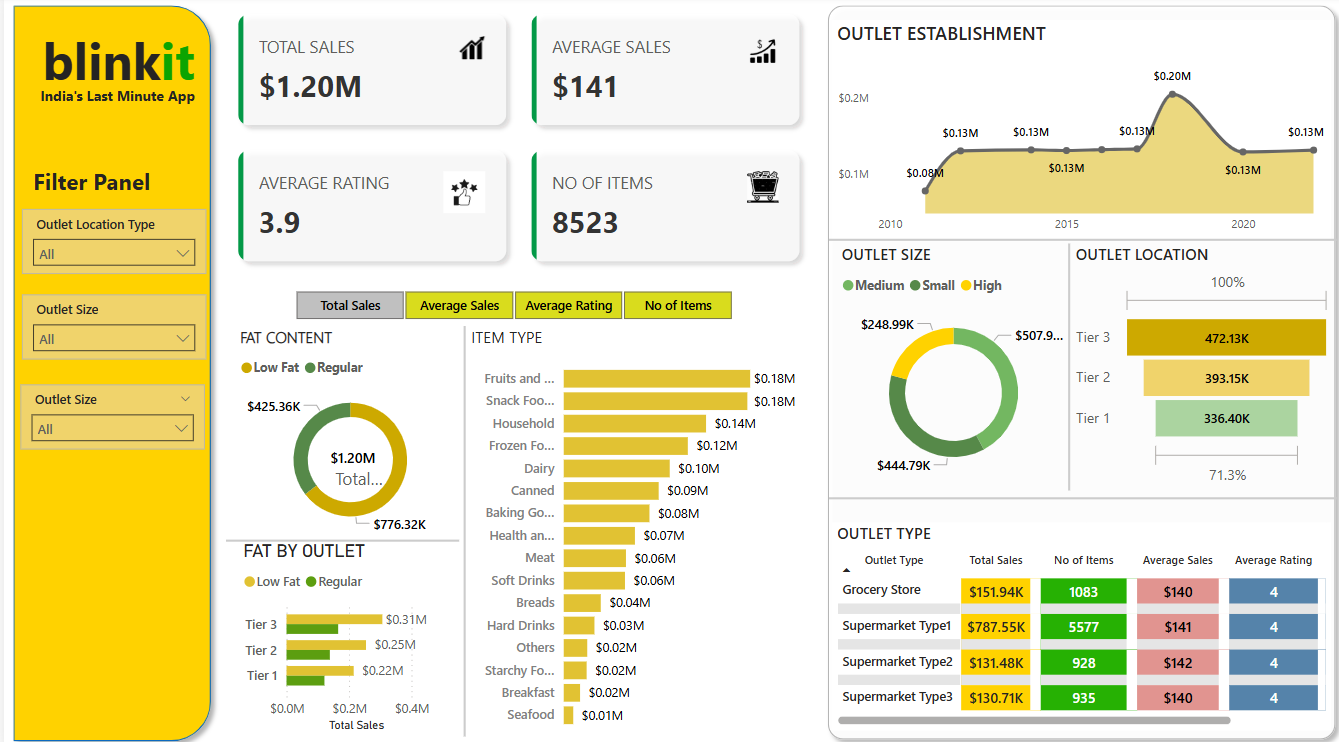

The page's visual inventory and layout, read from the dashboard file:
{"tool":"powerbi","page":{"name":"Page 1","canvas":[1280,720],"ordinal":0},"visuals":[{"type":"shape","box":[0,0,206.6,720.6],"z":0},{"type":"textbox","box":[253.7,522.1,206.6,97.6],"z":1000},{"type":"shape","box":[777.5,0,502.6,718.9],"z":2000},{"type":"textbox","box":[22.8,22.8,164.3,74.8],"z":3000},{"type":"textbox","box":[22.8,79.7,164.3,48.8],"z":4000},{"type":"cardVisual","fields":{"Data":["Sheet1.Total Sales","Sheet1.Average Sales","Sheet1.Average Rating","Sheet1.No of Items"]},"box":[206.6,0,570.9,270],"z":5000},{"type":"donutChart","title":"FAT CONTENT","fields":{"Y":["Sheet1.Total Sales"],"Category":["Sheet1.item_fat_content"]},"box":[221.2,315.5,219.6,206.6],"z":6000},{"type":"slicer","fields":{"Values":["Metrics.Metrics"]},"box":[253.7,274.9,465.2,40.7],"z":7000},{"type":"cardVisual","fields":{"Data":["Sheet1.Total Sales"]},"box":[283,401.8,99.2,100.8],"z":8000},{"type":"clusteredBarChart","title":"FAT BY OUTLET","fields":{"Y":["Sheet1.Total Sales"],"Category":["Sheet1.outlet_location_type"],"Series":["Sheet1.item_fat_content"]},"box":[222.8,520.5,201.7,187.1],"z":9000},{"type":"shape","box":[211.5,512.4,222.8,14.6],"z":10000},{"type":"shape","box":[336.7,315.5,206.6,392],"z":11000},{"type":"barChart","title":"ITEM TYPE","fields":{"Y":["Sheet1.Total Sales"],"Category":["Sheet1.item_type"]},"box":[440.8,315.5,318.8,393.6],"z":12000},{"type":"lineChart","title":"OUTLET ESTABLISHMENT","fields":{"Category":["Sheet1.outlet_establishment_year"],"Y":["Sheet1.Total Sales"]},"box":[790.5,22.8,476.6,211.5],"z":13000},{"type":"shape","box":[787.2,196.8,484.7,73.2],"z":14000},{"type":"donutChart","title":"OUTLET SIZE","fields":{"Y":["Sheet1.Total Sales"],"Category":["Sheet1.outlet_size"]},"box":[795.4,235.8,222.8,235.8],"z":15000},{"type":"shape","box":[914.1,235.8,206.6,235.8],"z":16000},{"type":"funnel","title":"OUTLET LOCATION","fields":{"Y":["Sum(Sheet1.sales)"],"Category":["Sheet1.outlet_location_type"]},"box":[1018.2,235.8,253.7,235.8],"z":17000},{"type":"shape","box":[787.2,385.5,484.7,188.7],"z":18000},{"type":"pivotTable","title":"OUTLET TYPE","fields":{"Rows":["Sheet1.outlet_type"],"Values":["Sheet1.Total Sales","Sheet1.No of Items","Sheet1.Average Sales","Sheet1.Average Rating","Avg(Sheet1.item_visibility)"]},"box":[790.5,502.6,476.6,198.4],"z":19000},{"type":"slicer","fields":{"Values":["Sheet1.outlet_location_type"]},"box":[17.9,203.3,175.7,61.8],"z":20000},{"type":"slicer","fields":{"Values":["Sheet1.outlet_size"]},"box":[17.9,284.6,175.7,61.8],"z":21000},{"type":"slicer","fields":{"Values":["Sheet1.item_type"]},"box":[16.3,370.9,175.7,61.8],"z":22000},{"type":"textbox","box":[22.8,156.1,170.8,40.7],"z":23000}]}

Visuals, with their boxes in screenshot pixels (x1, y1, x2, y2), scaled from the page's 1280x720 canvas onto the 1339x742 screenshot:
shape: Rect(0, 0, 216, 741)
textbox: Rect(265, 538, 482, 639)
shape: Rect(813, 0, 1338, 741)
textbox: Rect(24, 23, 196, 101)
textbox: Rect(24, 82, 196, 132)
cardVisual - Sheet1.Total Sales x Sheet1.Average Sales: Rect(216, 0, 813, 278)
"FAT CONTENT" donutChart: Rect(231, 325, 461, 538)
slicer - Metrics.Metrics: Rect(265, 283, 752, 325)
cardVisual - Sheet1.Total Sales: Rect(296, 414, 400, 518)
"FAT BY OUTLET" clusteredBarChart: Rect(233, 536, 444, 729)
shape: Rect(221, 528, 454, 543)
shape: Rect(352, 325, 568, 729)
"ITEM TYPE" barChart: Rect(461, 325, 795, 731)
"OUTLET ESTABLISHMENT" lineChart: Rect(827, 23, 1326, 241)
shape: Rect(823, 203, 1331, 278)
"OUTLET SIZE" donutChart: Rect(832, 243, 1065, 486)
shape: Rect(956, 243, 1172, 486)
"OUTLET LOCATION" funnel: Rect(1065, 243, 1331, 486)
shape: Rect(823, 397, 1331, 592)
"OUTLET TYPE" pivotTable: Rect(827, 518, 1326, 722)
slicer - Sheet1.outlet_location_type: Rect(19, 210, 203, 273)
slicer - Sheet1.outlet_size: Rect(19, 293, 203, 357)
slicer - Sheet1.item_type: Rect(17, 382, 201, 446)
textbox: Rect(24, 161, 203, 203)
